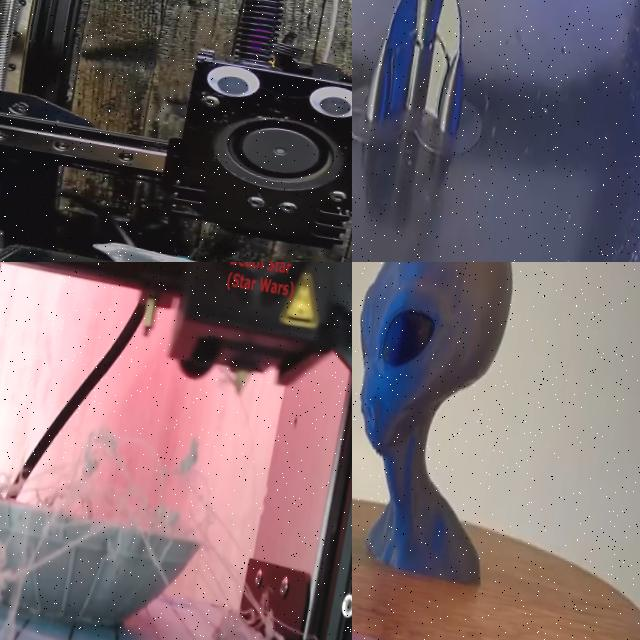spaghetti: (0, 356, 336, 640)
